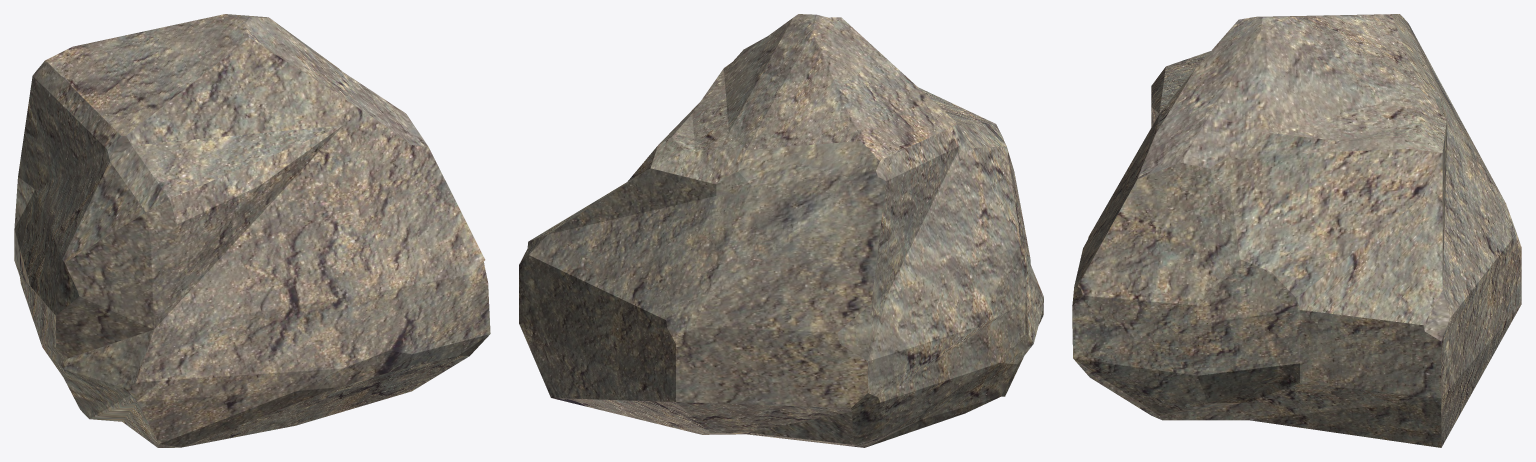
File: Rock01.obj
3 views of the same model, side by side, from view 1: azimuth 30°, elevation 25°; view 2: azimuth 150°, elevation 25°; view 3: azimuth 270°, elevation 25° (orthographic). The views are drawn at different scales.
Parts seen in each view (by area): view 1: Cube; view 2: Cube; view 3: Cube.
Part boxes in pixels (x1,y1,x2,y2): Cube: (14, 14, 490, 447); Cube: (519, 14, 1043, 447); Cube: (1072, 14, 1521, 447).
Bounding box in the file's own units: 3.15 × 2.76 × 3.1.
Materials: 1 (1 with a texture image).
